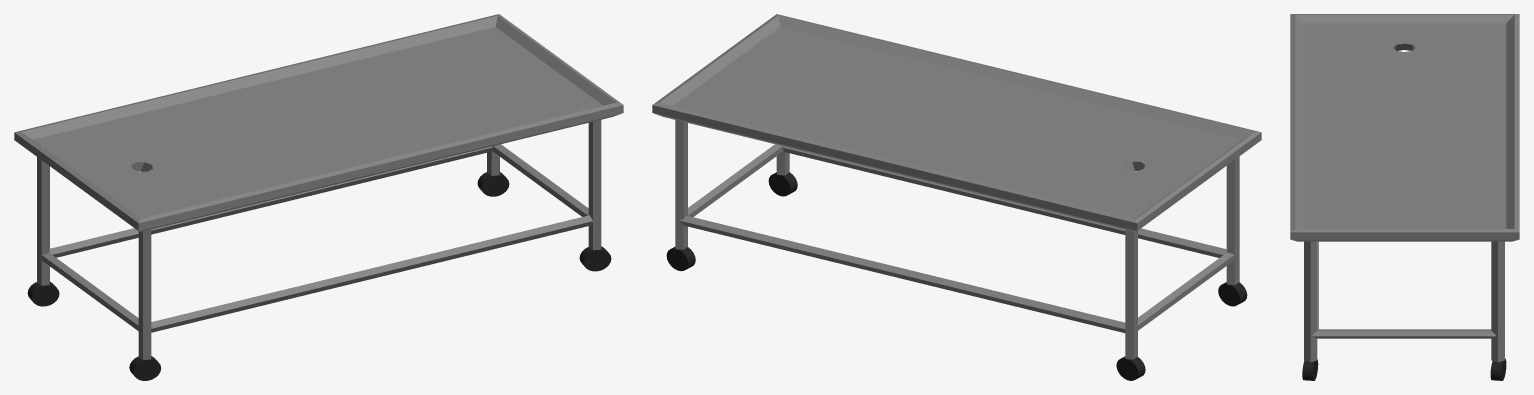
File: Obj_LabDTable.fbx
3 renders of one model, left to right at view 1: azimuth 30°, elevation 25°; view 2: azimuth 150°, elevation 25°; view 3: azimuth 270°, elevation 25°, orthographic. The views are drawn at different scales.
Parts seen in each view (by area): view 1: Obj_LabDTable; view 2: Obj_LabDTable; view 3: Obj_LabDTable.
Boxes of the visible parts, bbox=[...] form: Obj_LabDTable: bbox=[14, 14, 623, 380]; Obj_LabDTable: bbox=[652, 14, 1261, 380]; Obj_LabDTable: bbox=[1290, 14, 1519, 380].
Size of the model in its own units: 4.5 by 1.5 by 2.
